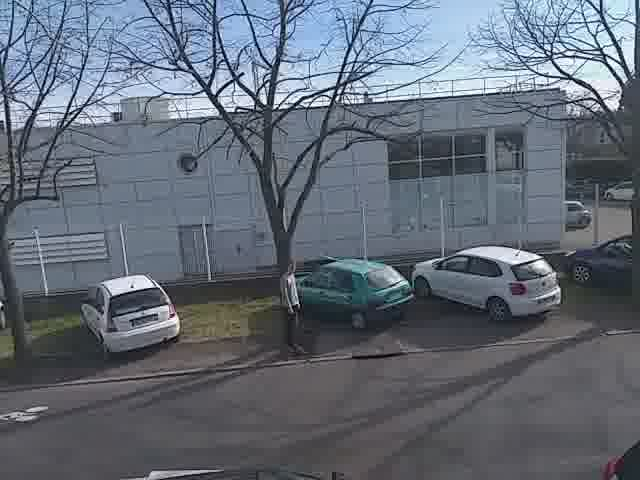persona: (274, 256, 309, 361)
